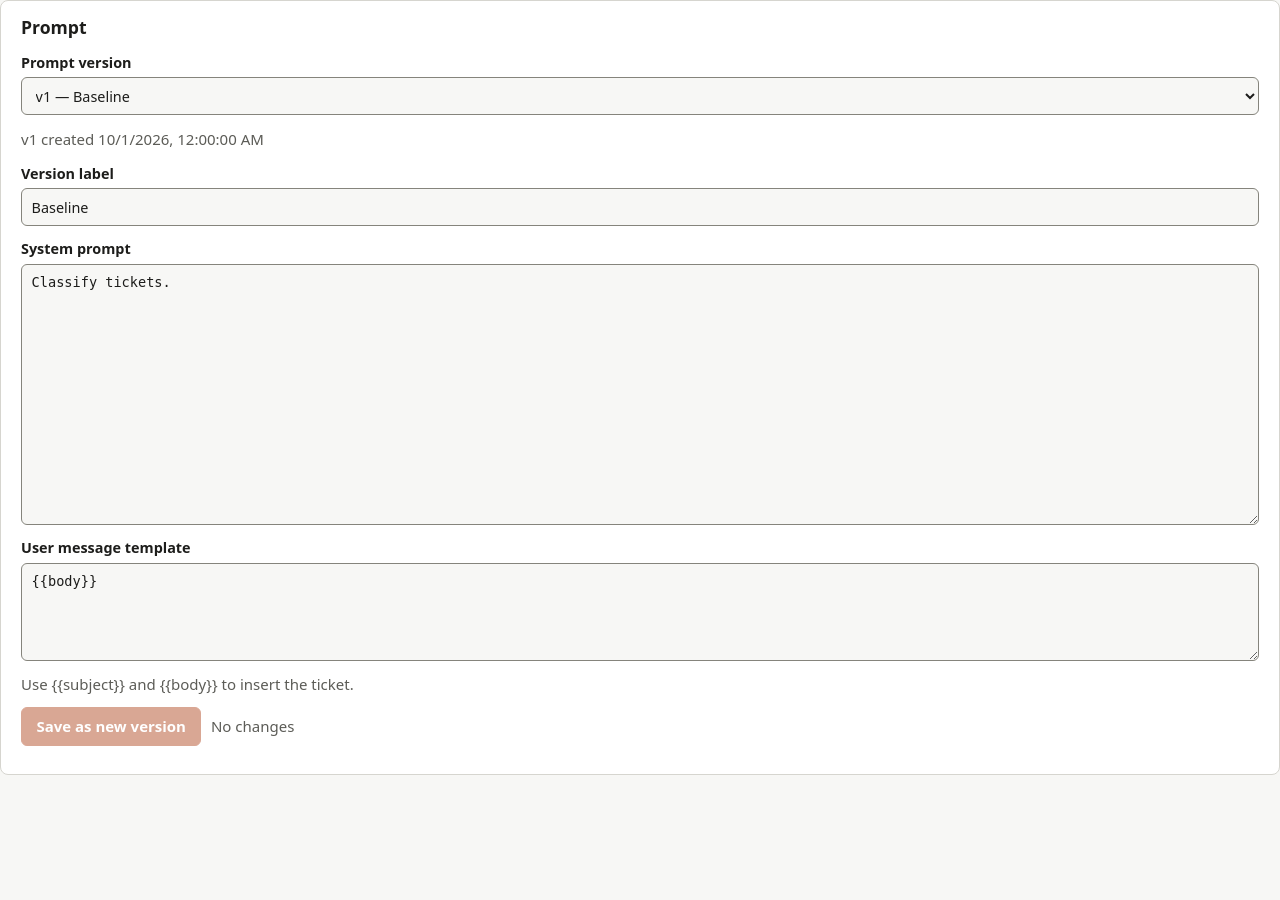
PromptEditor › reports save failures in an alert
Type "!" into the field labelled "Version label" at [640, 207], box [21,188,1259,226]
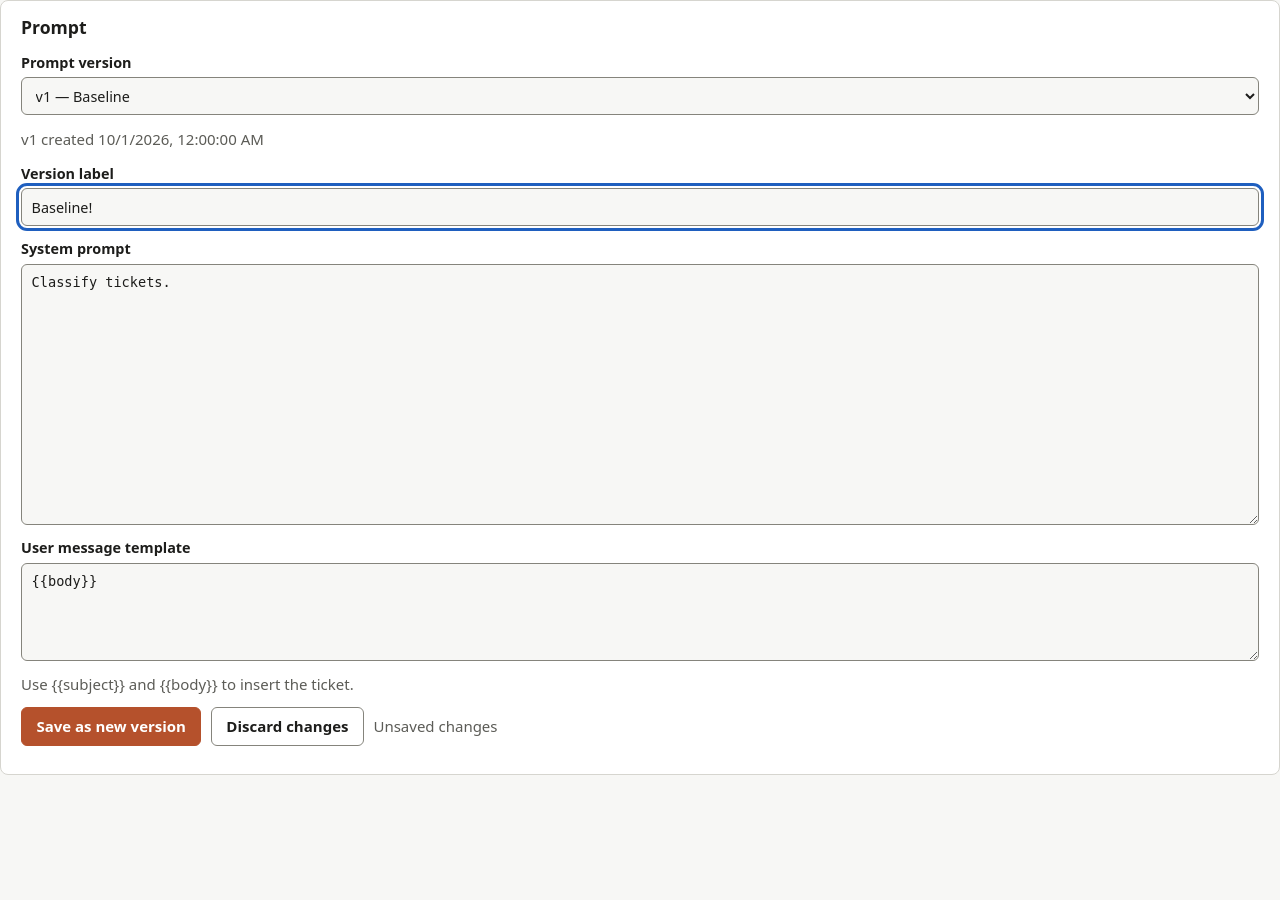
Click the button "Save as new version" at [111, 727], box [21,707,201,746]
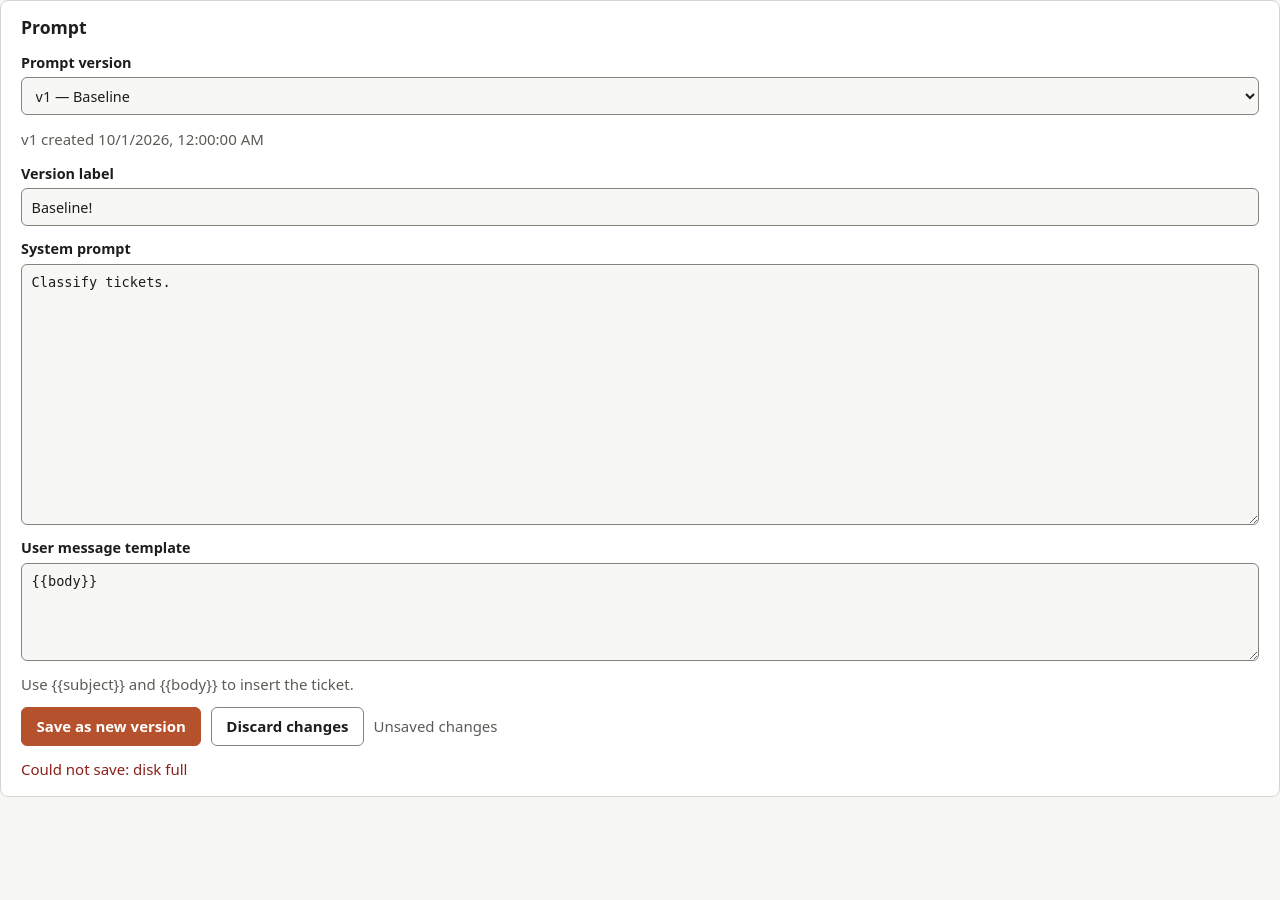
Expected: the message reads "Could not save: disk full", [21,759,188,779]
